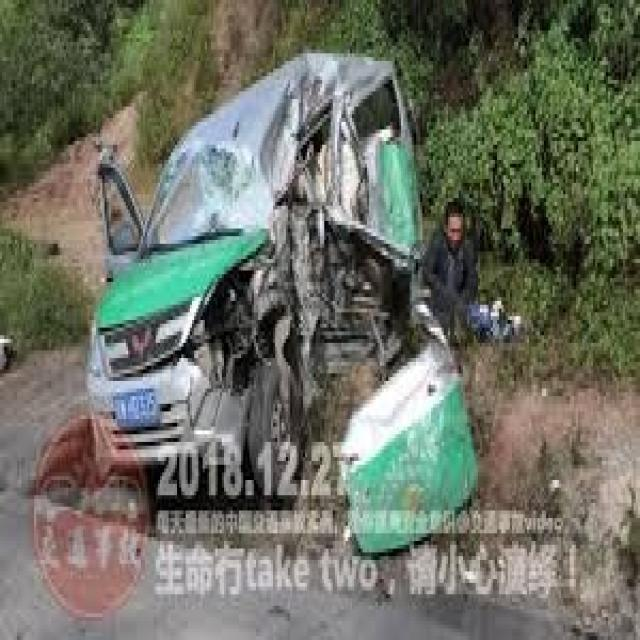accident: (88, 63, 443, 495)
